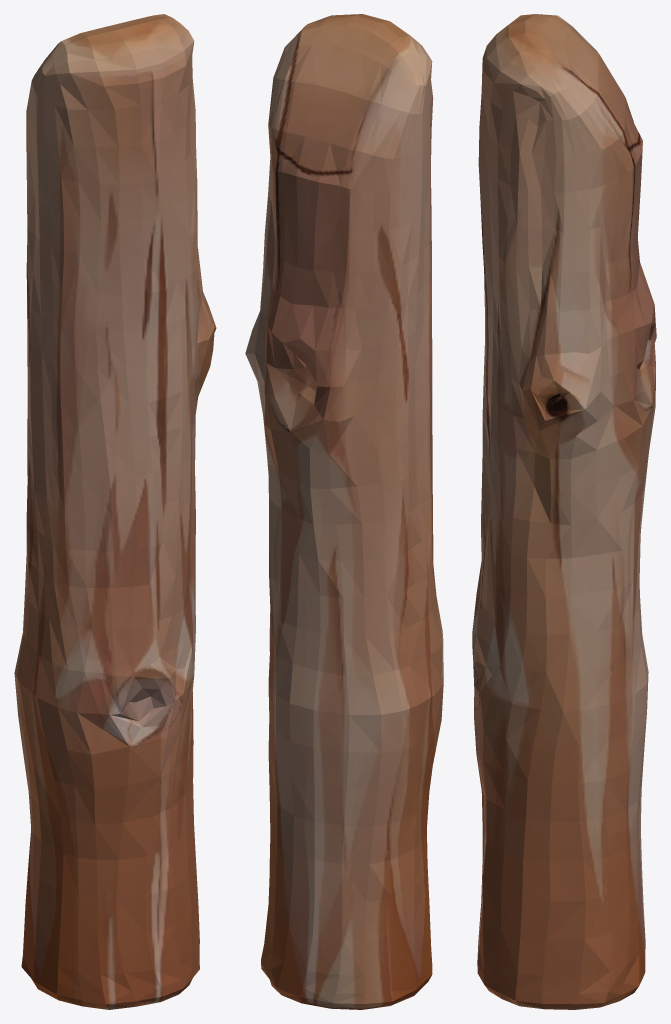
Rendered from Pole.glb.
3 renders of one model, left to right at view 1: azimuth 30°, elevation 25°; view 2: azimuth 150°, elevation 25°; view 3: azimuth 270°, elevation 25°, orthographic.
Visible parts, largest first — view 1: tripo_node_03eba52e-c6df-4986-b359-23ef700c3c7e; view 2: tripo_node_03eba52e-c6df-4986-b359-23ef700c3c7e; view 3: tripo_node_03eba52e-c6df-4986-b359-23ef700c3c7e.
Boxes of the visible parts, x1,y1,x2,y2 form: tripo_node_03eba52e-c6df-4986-b359-23ef700c3c7e: (14,14,216,1009); tripo_node_03eba52e-c6df-4986-b359-23ef700c3c7e: (245,14,443,1009); tripo_node_03eba52e-c6df-4986-b359-23ef700c3c7e: (472,14,656,1009).
Size of the model in its own units: 0.1904 by 0.996 by 0.1749.
Materials: 1 (1 with a texture image).
